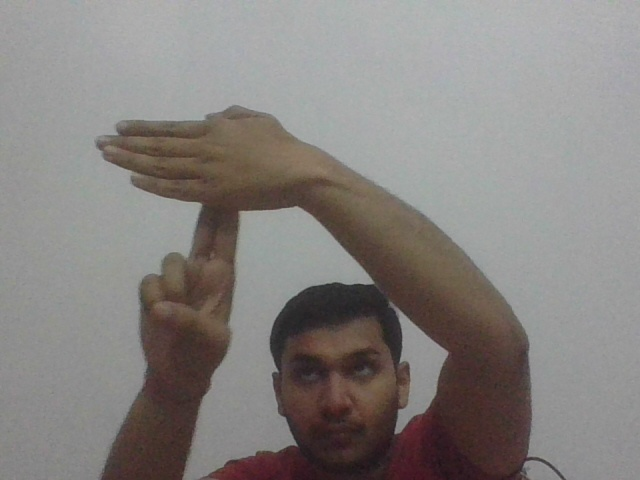N: (93, 102, 299, 251)
